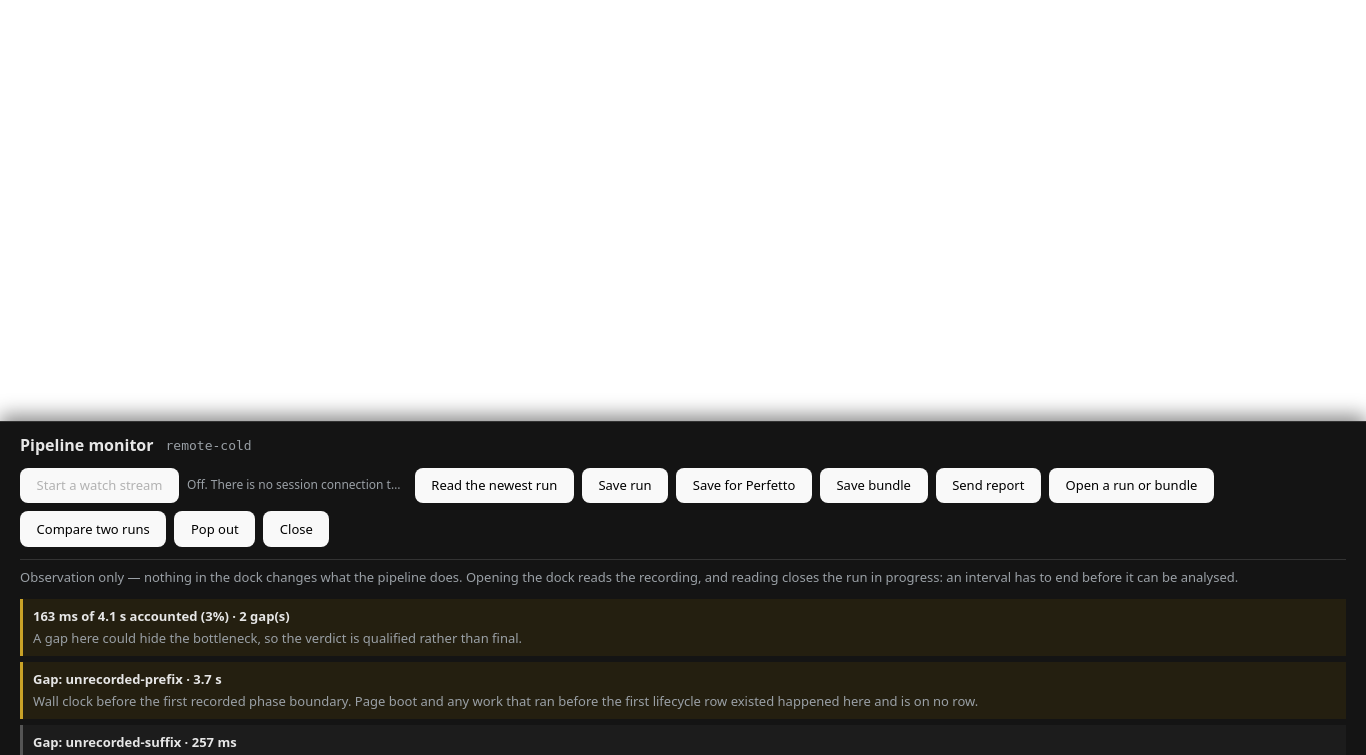
Test: saving a run › writes the run through the export seam and says what it wrote
The image size is (1366, 755).
Click the button with test id "monitor-save-run".
click(625, 485)  # box [582, 468, 668, 503]
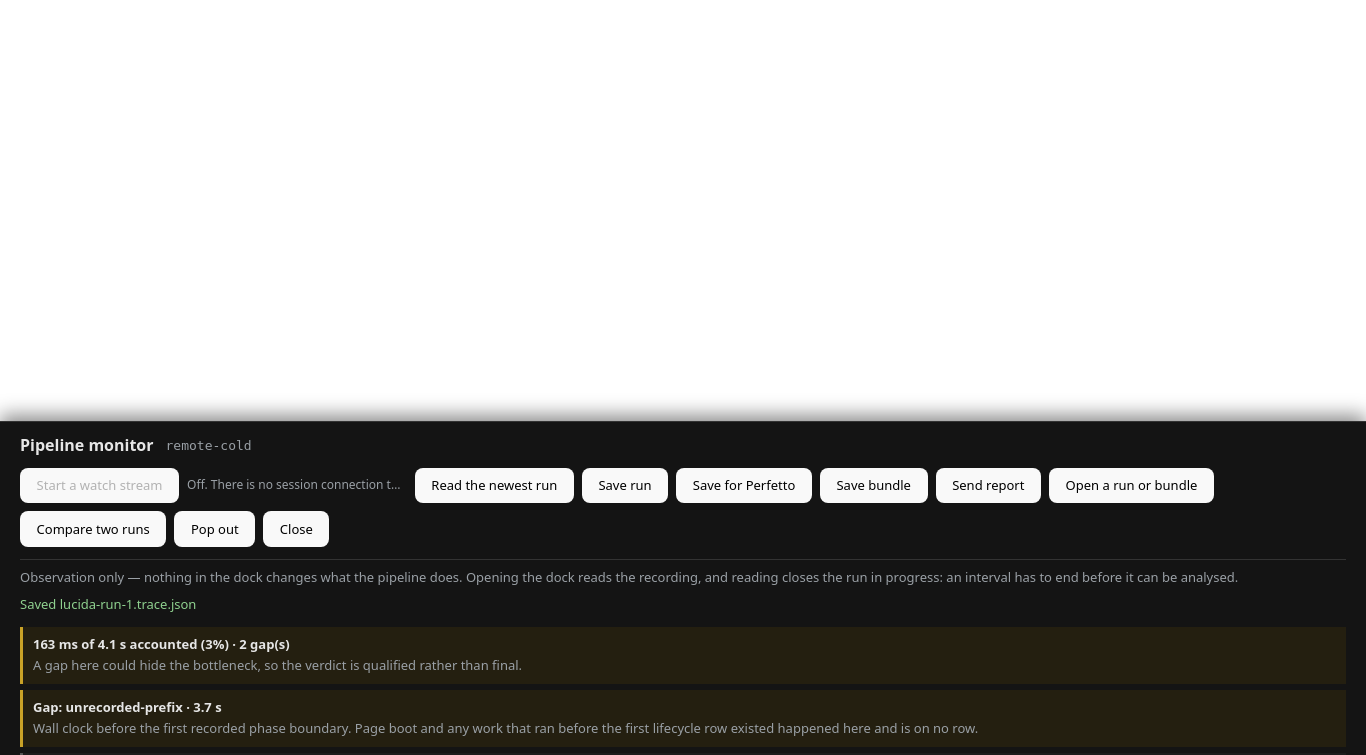
Result: the text with test id "monitor-saved" shows ".trace.json" at [60, 595, 196, 613]
